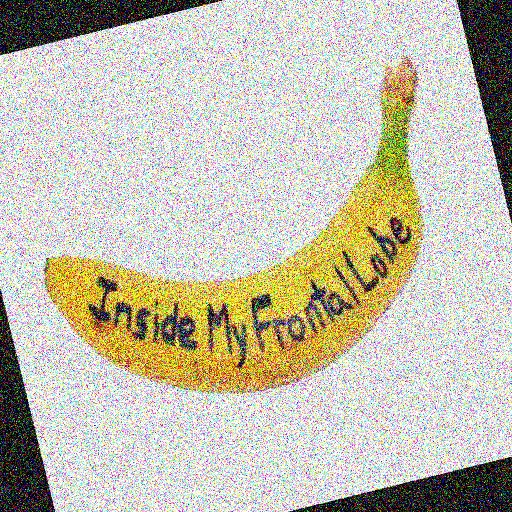fruit: (0, 164, 153, 495)
